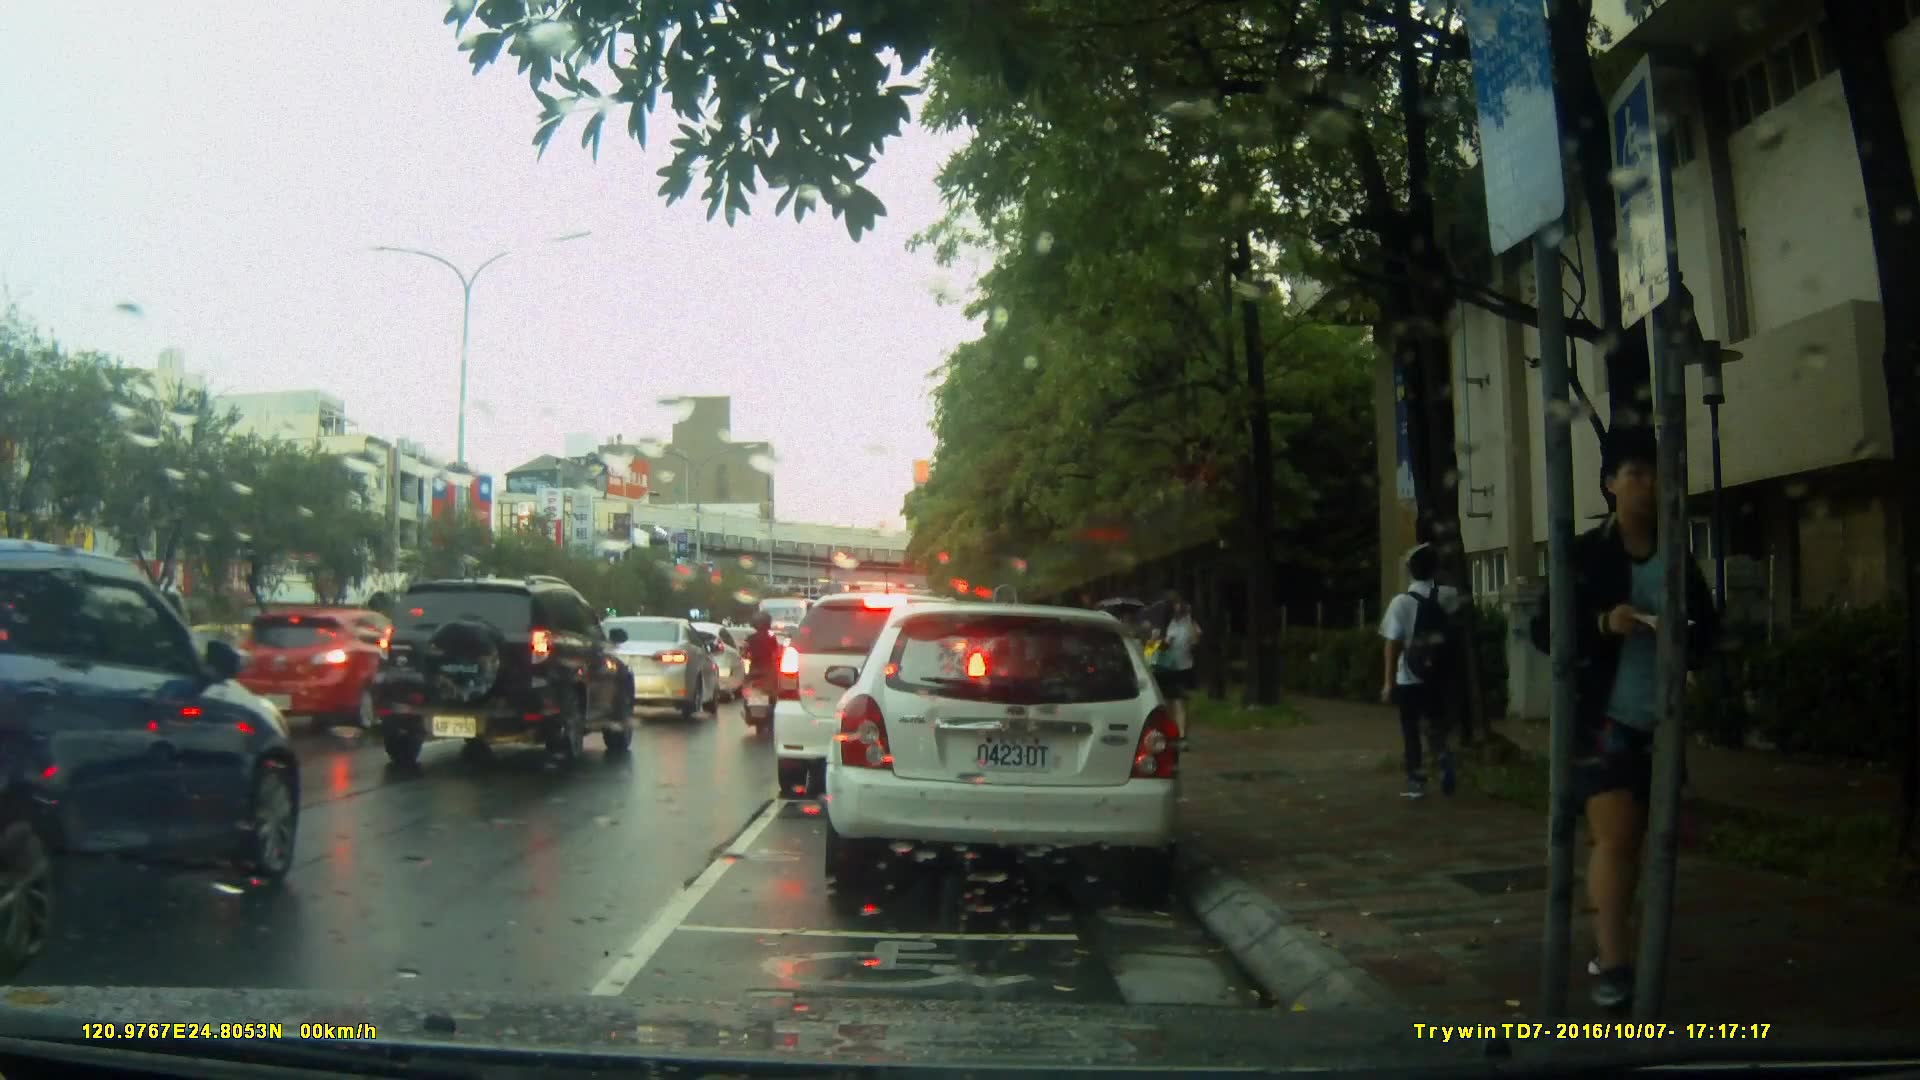pedestrian: (1568, 423, 1723, 979), (1368, 530, 1488, 809), (1145, 583, 1203, 738)
rider: (731, 606, 785, 738)
vehicle: (3, 536, 308, 929), (815, 593, 1202, 902), (366, 572, 639, 775), (771, 590, 995, 802), (225, 607, 435, 734), (561, 614, 715, 729)
